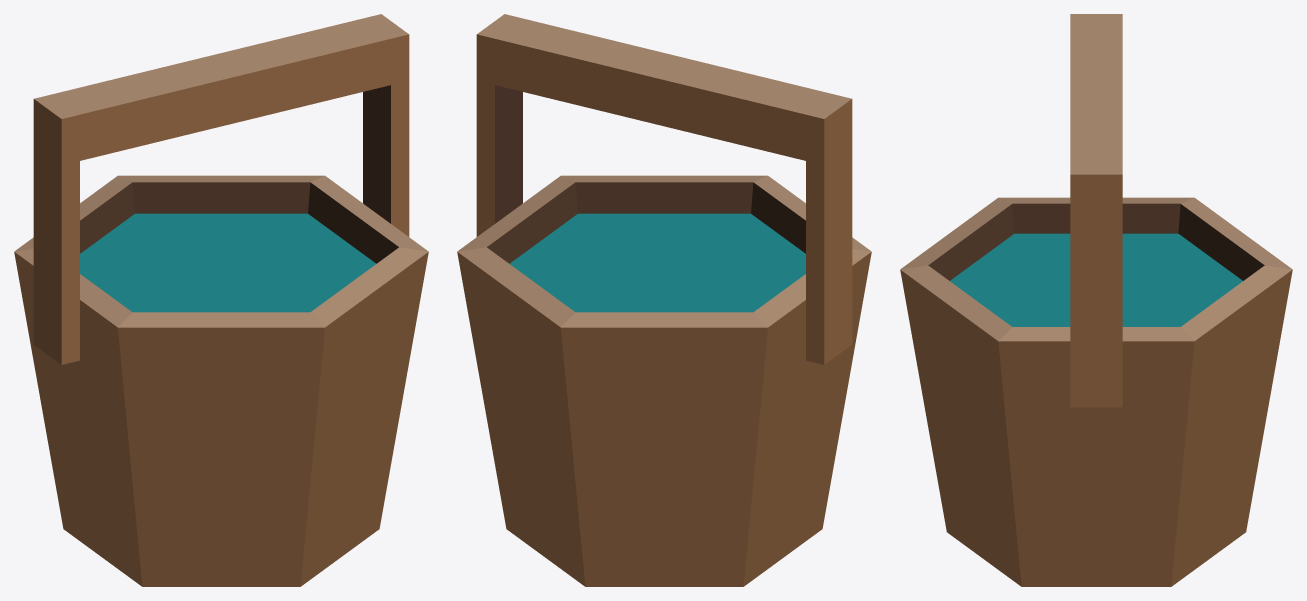
File: TB_D_Prop_HBucket_Water_B.FBX
The picture shows the model from 3 angles, left to right: view 1: azimuth 30°, elevation 25°; view 2: azimuth 150°, elevation 25°; view 3: azimuth 270°, elevation 25°; orthographic projection. The views are drawn at different scales.
Visible parts, largest first — view 1: TB_D_Prop_HBucket_Water_B; view 2: TB_D_Prop_HBucket_Water_B; view 3: TB_D_Prop_HBucket_Water_B.
Part boxes in pixels (x1,y1,x2,y2): TB_D_Prop_HBucket_Water_B: (14, 14, 428, 586); TB_D_Prop_HBucket_Water_B: (457, 14, 871, 586); TB_D_Prop_HBucket_Water_B: (900, 14, 1292, 586).
Size of the model in its own units: 0.5879 by 0.7477 by 0.6076.
